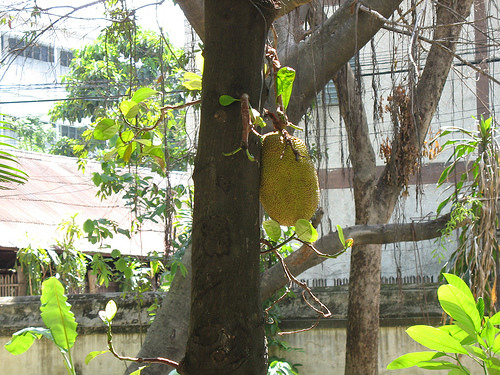jackfruit: (258, 132, 320, 225)
